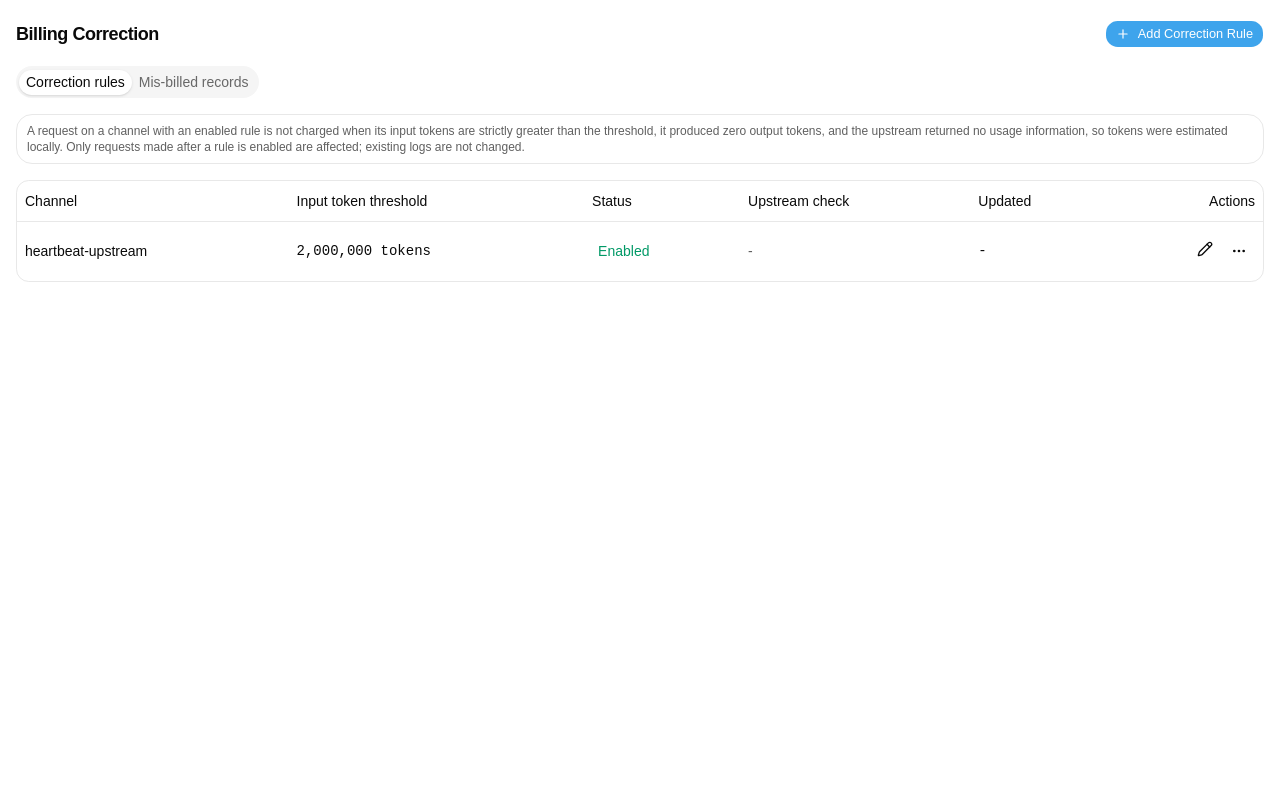
Test: billing correction page › marks a zero threshold invalid and does not save it
The image size is (1280, 800).
Expected: the text "heartbeat-upstream" is shown, x1=25 y1=243 x2=147 y2=259
Click the button named "Edit" at coordinates (1205, 249), box x1=1191 y1=235 x2=1219 y2=263
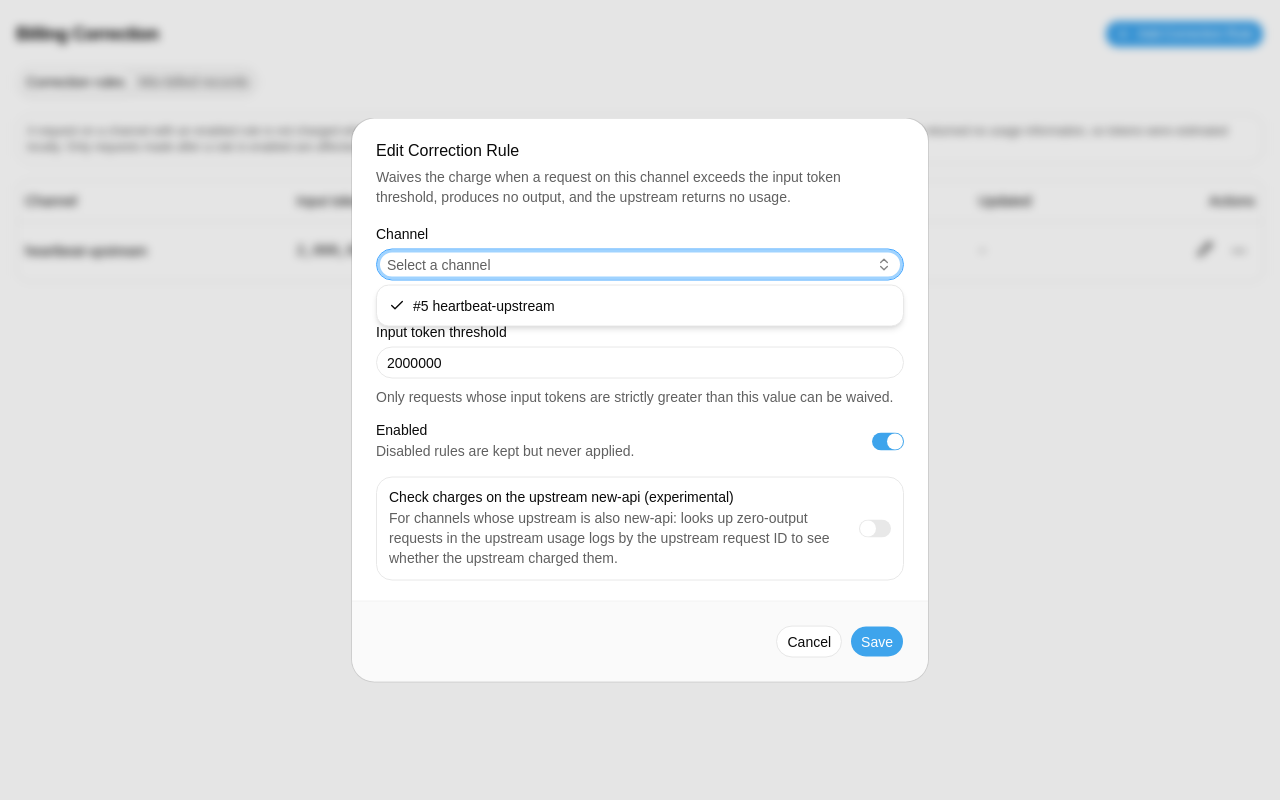
Expected: the number field labelled "Input token threshold" holds "2000000"
Replace the text in the number field labelled "Input token threshold" with "0" at coordinates (640, 362), box x1=376 y1=346 x2=904 y2=378
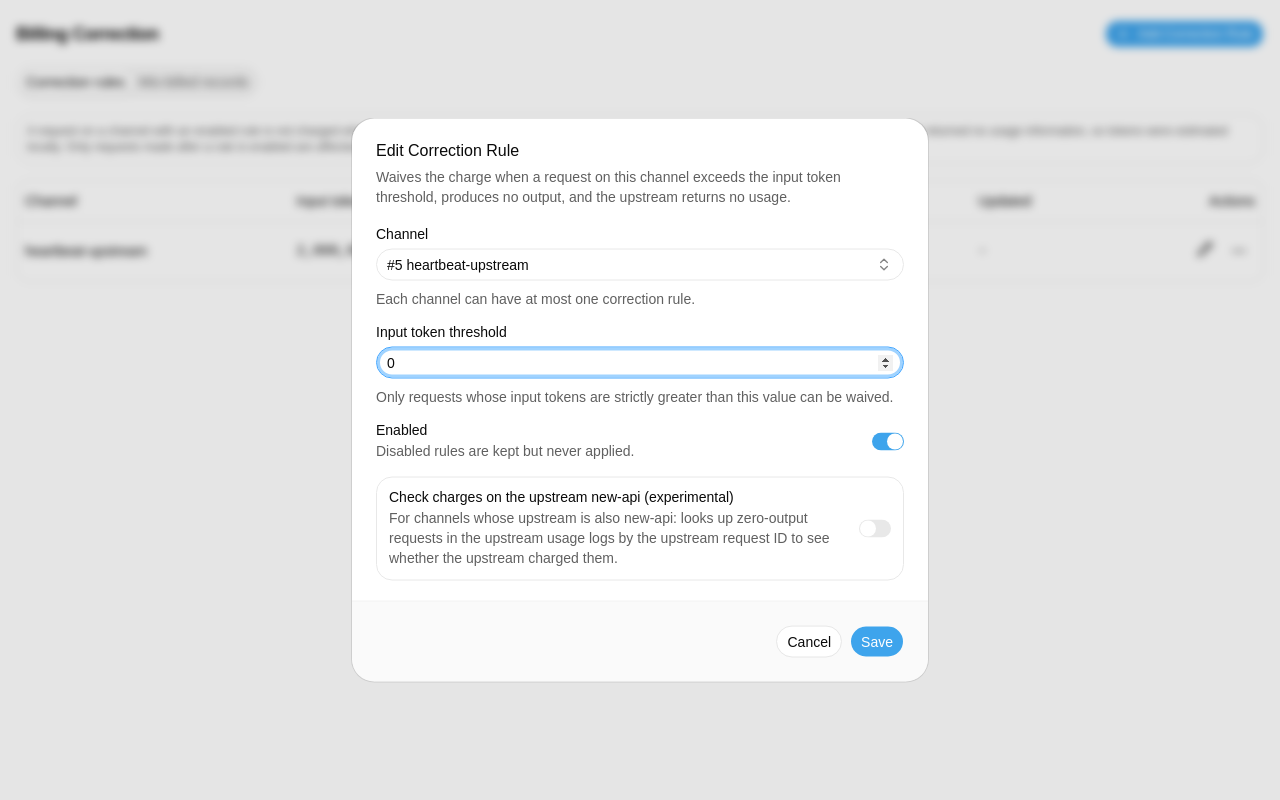
Click the button "Save" at coordinates (877, 642), box x1=850 y1=626 x2=904 y2=658
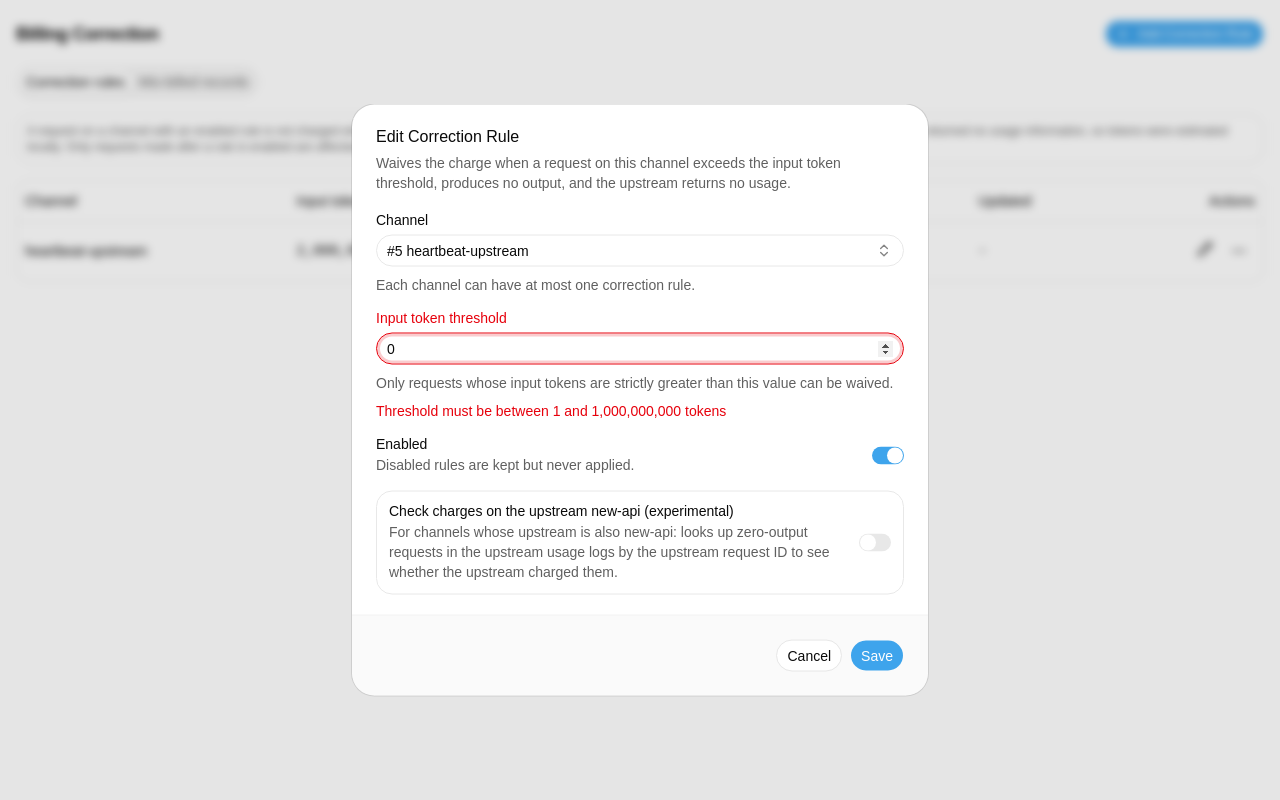
Expected: the text "Threshold must be between 1 and 1,000,000,000 tokens" is shown, x1=376 y1=402 x2=726 y2=418
